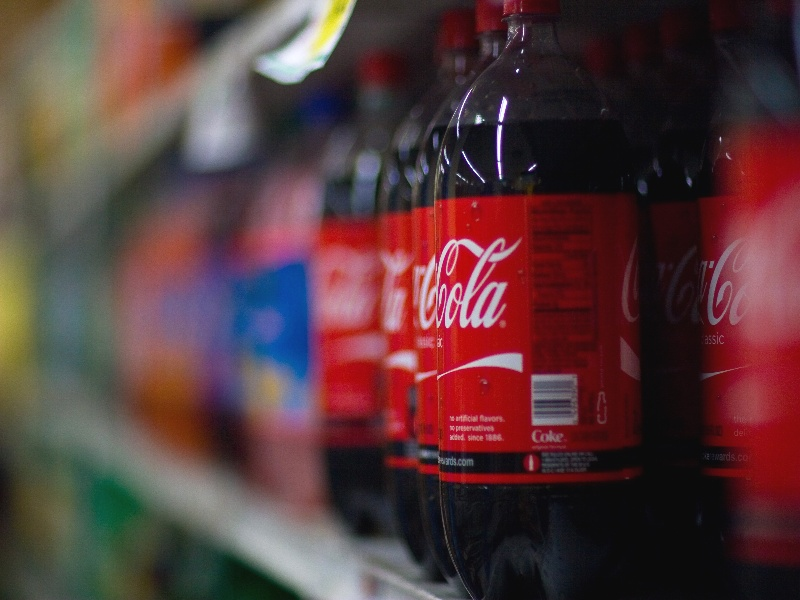Plastic bottle: (396, 10, 655, 591)
